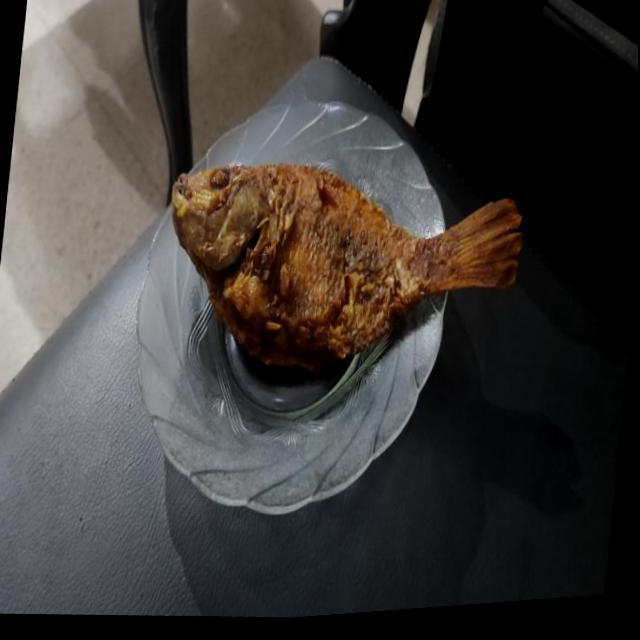ikan_mujair: (172, 162, 522, 372)
